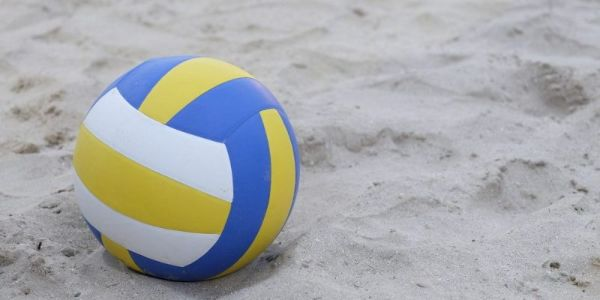voleibol: (72, 55, 300, 282)
